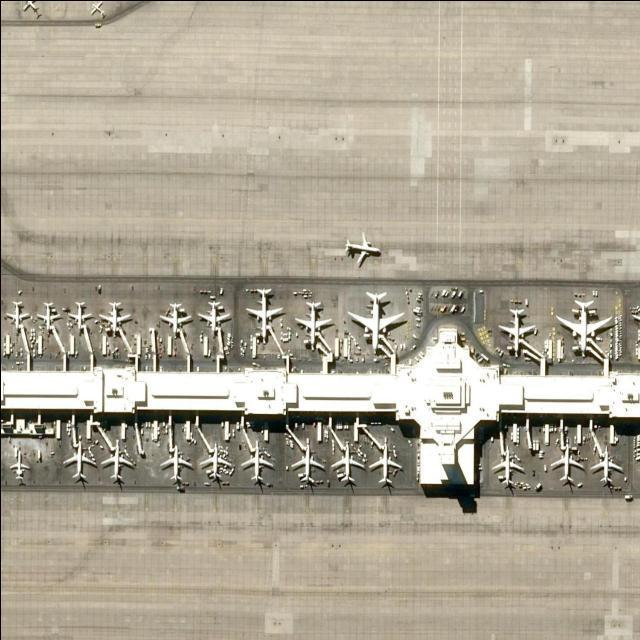Aircraft: (347, 290, 407, 353), (553, 296, 612, 355), (241, 288, 283, 338), (292, 300, 334, 348), (498, 306, 536, 358), (370, 440, 404, 492), (61, 440, 97, 485), (289, 443, 323, 490), (329, 443, 365, 487), (549, 445, 585, 489), (588, 445, 624, 489), (99, 440, 134, 485), (239, 442, 274, 484), (343, 233, 382, 269), (198, 443, 232, 483), (491, 448, 525, 488), (158, 444, 191, 484), (198, 299, 233, 336), (98, 301, 132, 337), (158, 301, 192, 337), (66, 300, 93, 331), (34, 302, 61, 332), (6, 297, 29, 330), (9, 452, 29, 480)
